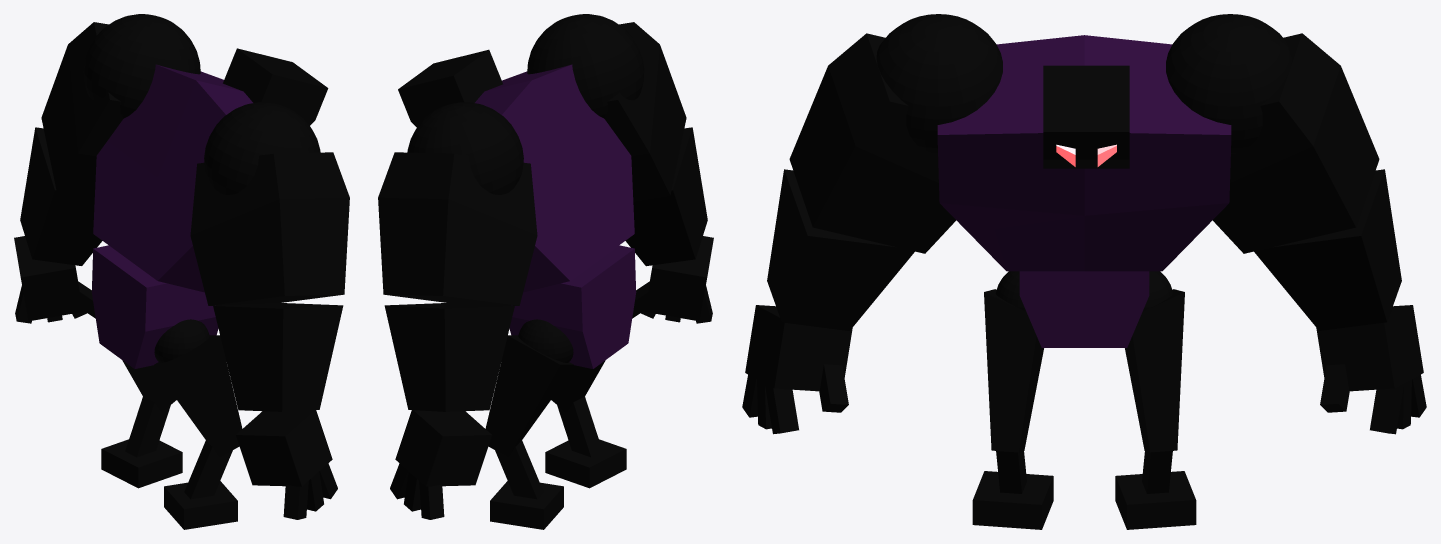
Rendered from Monster.glb.
The picture shows the model from 3 angles, left to right: view 1: azimuth 30°, elevation 25°; view 2: azimuth 150°, elevation 25°; view 3: azimuth 270°, elevation 25°; orthographic projection. The views are drawn at different scales.
Parts seen in each view (by area): view 1: Cube.016, Cube.015, Cube.017, Sphere.001, Cube.018, Cube.011, Cube.012, Cube.014, Cube.023, Cube.013, Sphere, Cube.021 (+2 smaller); view 2: Cube.016, Cube.015, Cube.017, Sphere.001, Cube.018, Cube.011, Cube.012, Cube.014, Cube.023, Cube.013, Sphere, Cube.021 (+2 smaller); view 3: Cube.015, Cube.016, Cube.017, Sphere.001, Cube.012, Cube.018, Cube.011, Cube.023, Cube.014, Cube.019, Cube.022, Cube.013 (+3 smaller).
Part boxes in pixels (<box>): Cube.016: <box>41,22,349,305</box>; Cube.015: <box>93,64,252,292</box>; Cube.017: <box>20,127,343,411</box>; Sphere.001: <box>83,14,320,194</box>; Cube.018: <box>14,236,332,486</box>; Cube.011: <box>91,245,218,368</box>; Cube.012: <box>94,310,242,456</box>; Cube.014: <box>101,439,237,529</box>; Cube.023: <box>223,48,328,125</box>; Cube.013: <box>125,396,232,499</box>; Sphere: <box>154,319,209,362</box>; Cube.021: <box>15,286,308,519</box>; Cube.016: <box>378,22,686,305</box>; Cube.015: <box>475,64,634,292</box>; Cube.017: <box>384,127,707,411</box>; Sphere.001: <box>407,14,644,194</box>; Cube.018: <box>395,236,713,486</box>; Cube.011: <box>509,245,636,368</box>; Cube.012: <box>485,310,633,456</box>; Cube.014: <box>490,439,626,529</box>; Cube.023: <box>398,49,502,127</box>; Cube.013: <box>495,396,602,499</box>; Sphere: <box>518,319,573,362</box>; Cube.021: <box>419,286,712,519</box>; Cube.015: <box>937,35,1231,271</box>; Cube.016: <box>789,33,1379,253</box>; Cube.017: <box>767,169,1401,330</box>; Sphere.001: <box>876,14,1292,153</box>; Cube.012: <box>984,289,1184,452</box>; Cube.018: <box>745,305,1423,391</box>; Cube.011: <box>1019,271,1149,347</box>; Cube.023: <box>1043,65,1129,168</box>; Cube.014: <box>972,471,1196,529</box>; Cube.019: <box>764,383,1404,434</box>; Cube.022: <box>819,364,1349,412</box>; Cube.013: <box>996,451,1172,493</box>.
Size of the model in its own units: 4.79 by 9.92 by 12.05.
